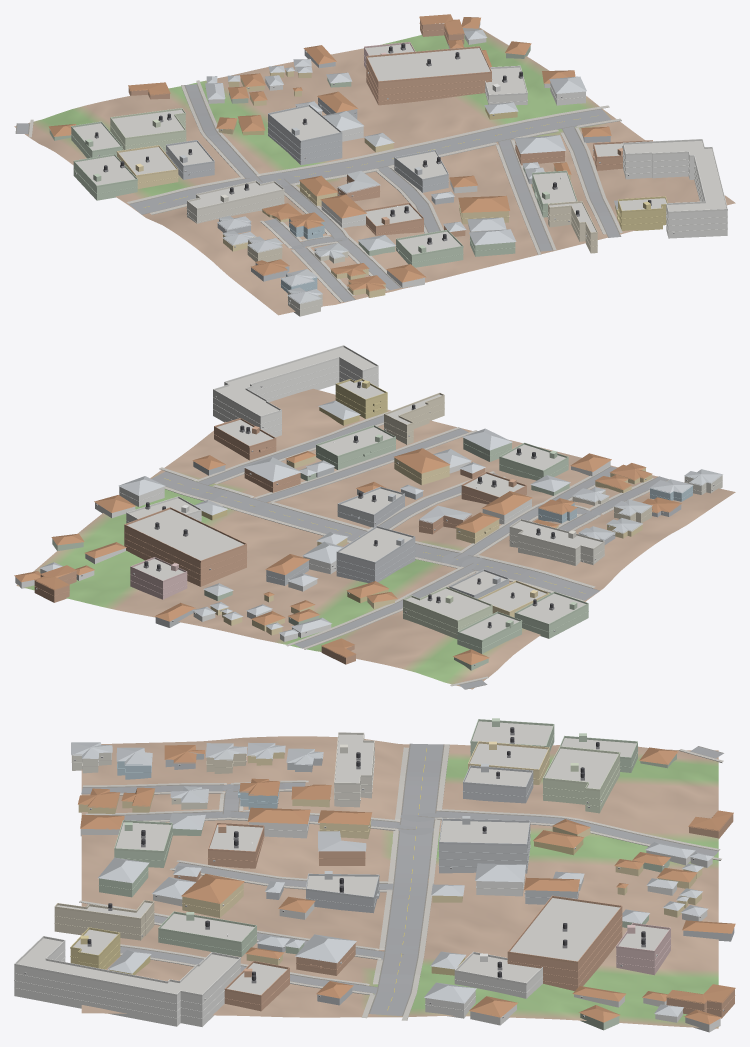
3 renders of one model, top to bottom at view 1: azimuth 30°, elevation 25°; view 2: azimuth 150°, elevation 25°; view 3: azimuth 270°, elevation 25°, orthographic. The views are drawn at different scales.
Visible parts, largest first — view 1: Buildings-col, Terrain-col, Roads-col, Details, Sidewalks-col; view 2: Buildings-col, Terrain-col, Roads-col, Details, Sidewalks-col; view 3: Buildings-col, Terrain-col, Roads-col, Details, Sidewalks-col.
Part boxes in pixels (x1,y1,x2,y2): Buildings-col: (48, 14, 727, 316); Terrain-col: (14, 27, 735, 315); Roads-col: (15, 84, 621, 301); Details: (50, 23, 727, 309); Sidewalks-col: (28, 80, 622, 302); Buildings-col: (14, 347, 722, 670); Terrain-col: (16, 388, 735, 689); Roads-col: (152, 415, 669, 689); Details: (34, 345, 722, 665); Sidewalks-col: (159, 410, 669, 686); Buildings-col: (14, 721, 735, 1032); Terrain-col: (81, 736, 718, 1028); Roads-col: (81, 743, 723, 1016); Details: (14, 718, 735, 1019); Sidewalks-col: (79, 744, 723, 1020).
Size of the model in its own units: 275 by 21.61 by 290.
